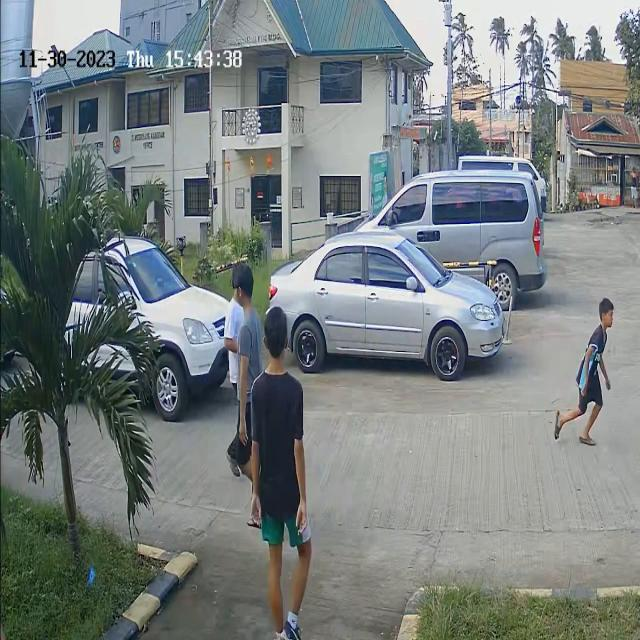person: (252, 304, 314, 502), (224, 262, 264, 382), (576, 296, 615, 397)
